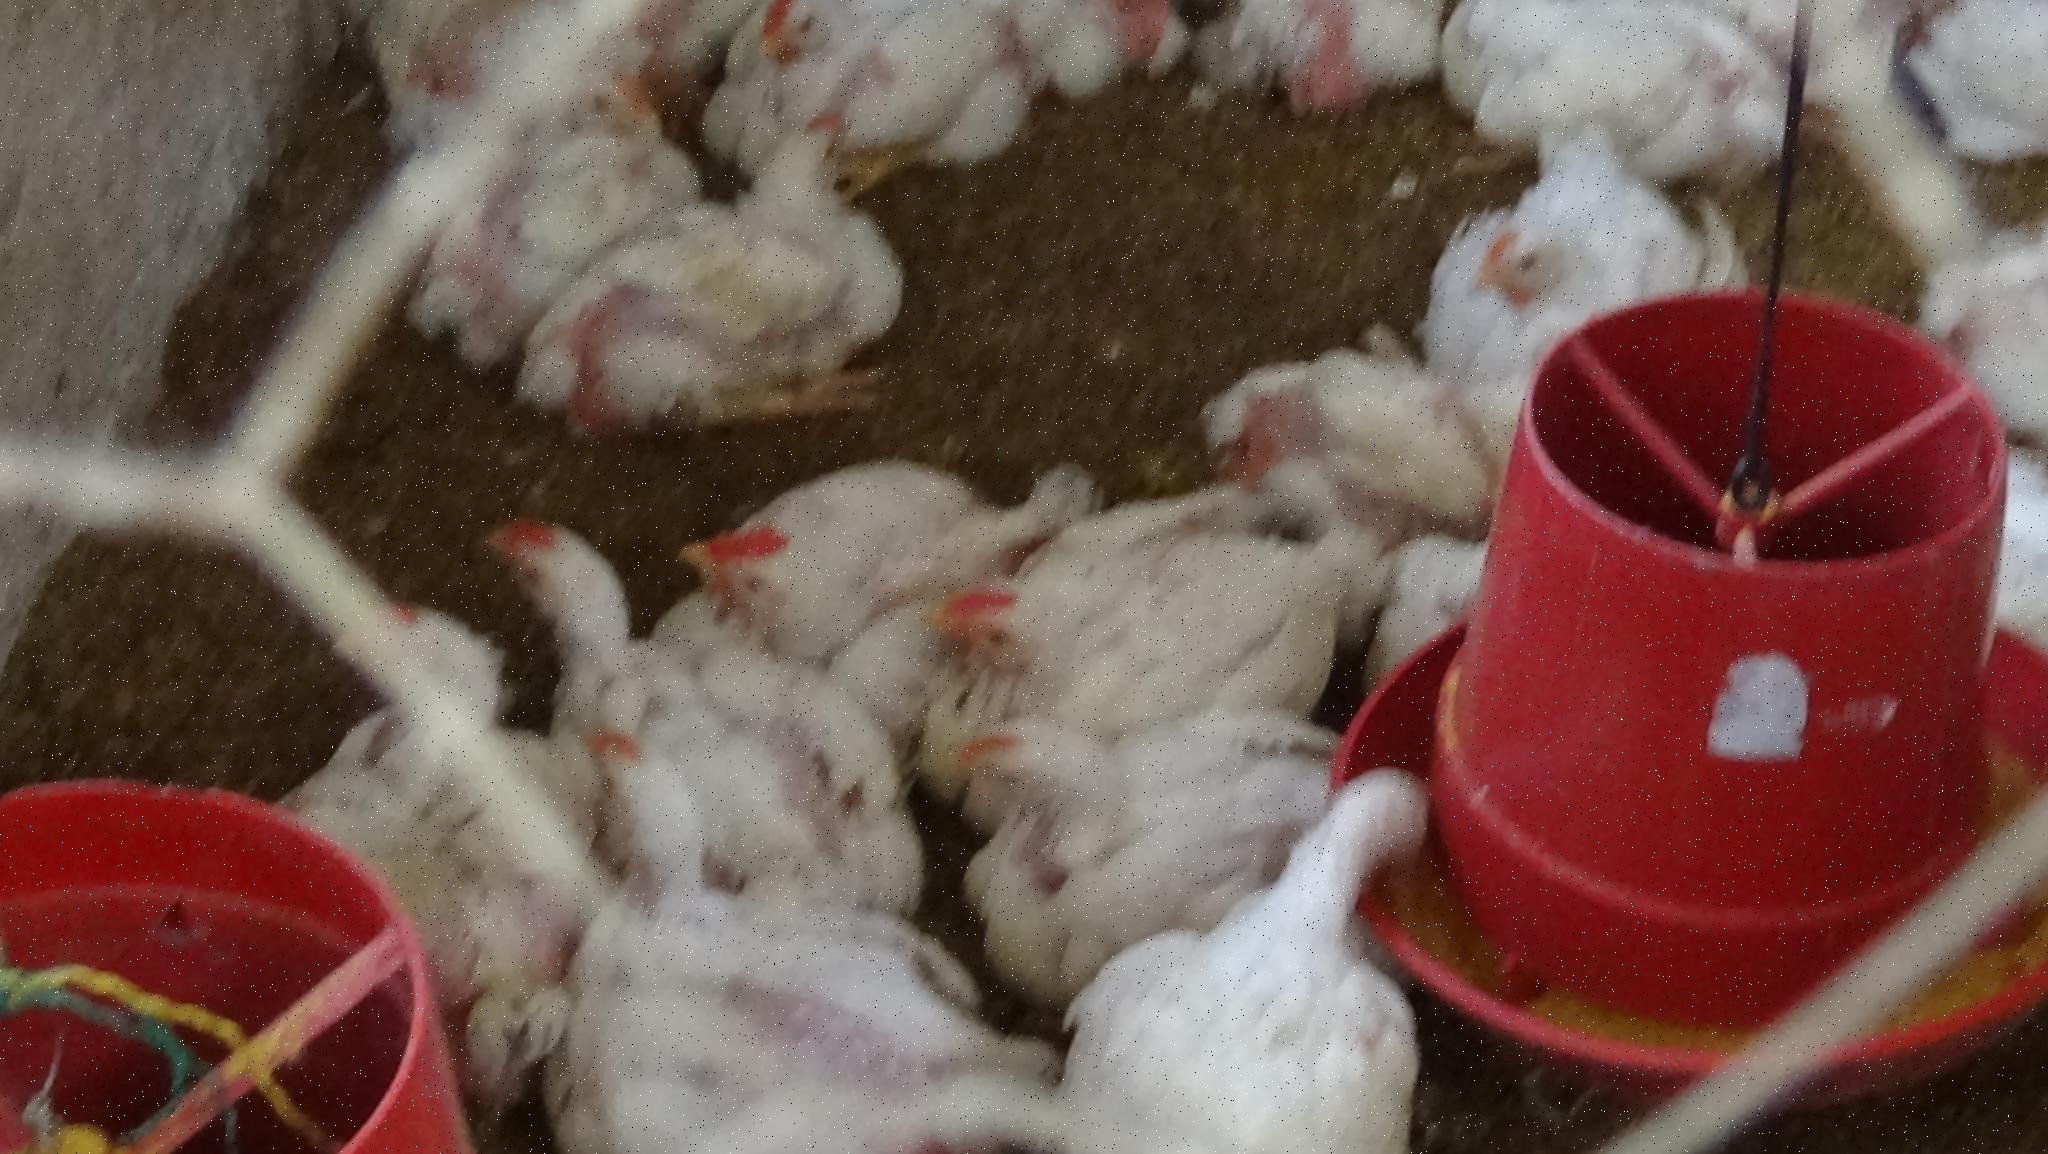Pollos: (563, 732, 1018, 1139), (539, 120, 926, 448), (1165, 752, 1461, 1110), (1439, 137, 1755, 405), (715, 1, 1037, 197), (691, 426, 934, 668), (949, 705, 1167, 940), (941, 535, 1224, 714), (249, 581, 508, 771), (444, 63, 668, 279), (447, 512, 677, 699), (1227, 1, 1453, 134)
